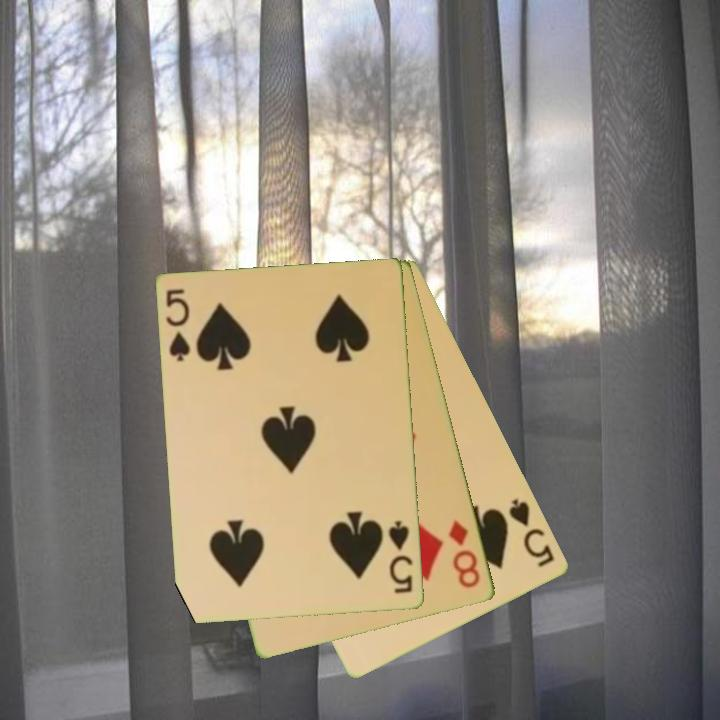5s: (506, 495, 558, 571), (385, 518, 416, 597), (163, 286, 193, 365)
8d: (445, 517, 484, 592)
